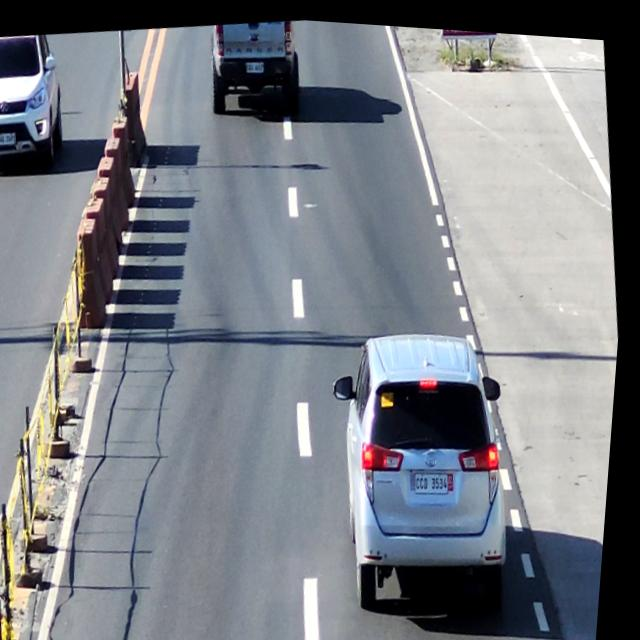Car: (330, 311, 535, 617), (0, 29, 78, 178), (204, 12, 309, 121)
License-Plate: (415, 463, 460, 494), (245, 55, 269, 76), (0, 128, 21, 152)
